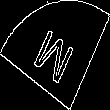M_SW: (31, 21, 79, 89)
